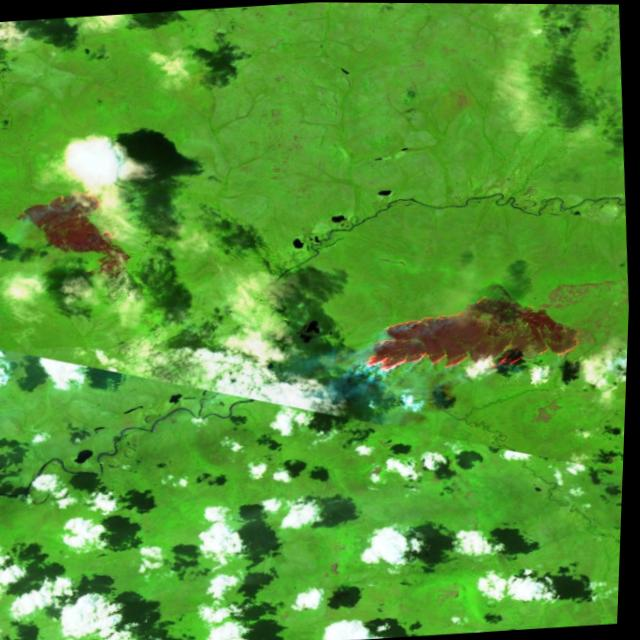fire: (331, 287, 601, 403), (11, 178, 145, 294)
